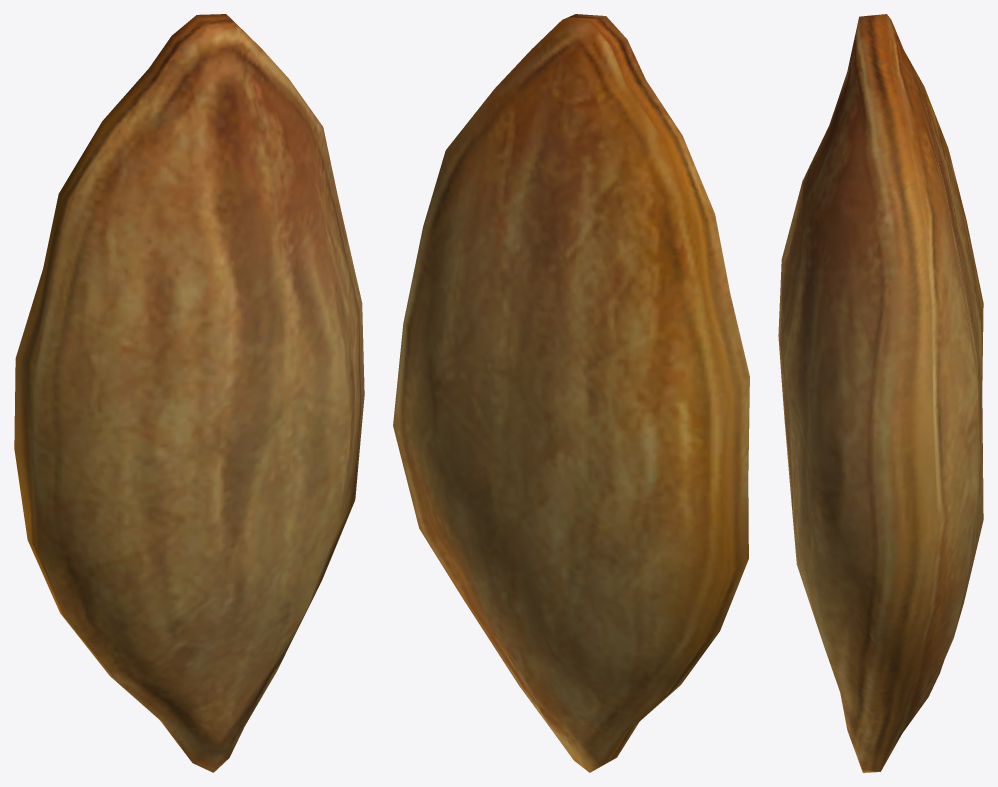
Rendered from hemp_seeds.glb.
The picture shows the model from 3 angles, left to right: view 1: azimuth 30°, elevation 25°; view 2: azimuth 150°, elevation 25°; view 3: azimuth 270°, elevation 25°; orthographic projection.
Visible parts, largest first — view 1: Object_2; view 2: Object_2; view 3: Object_2.
Part boxes in pixels (x1=…): Object_2: x1=14, y1=14, x2=364, y2=772; Object_2: x1=393, y1=14, x2=749, y2=772; Object_2: x1=778, y1=14, x2=983, y2=772.
Bounding box in the file's own units: 0.1112 × 0.2414 × 0.0593.
1 material, 1 textured.
